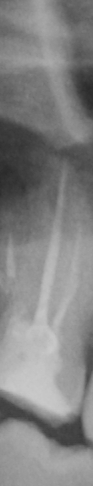fracture: (3, 235, 15, 281)
